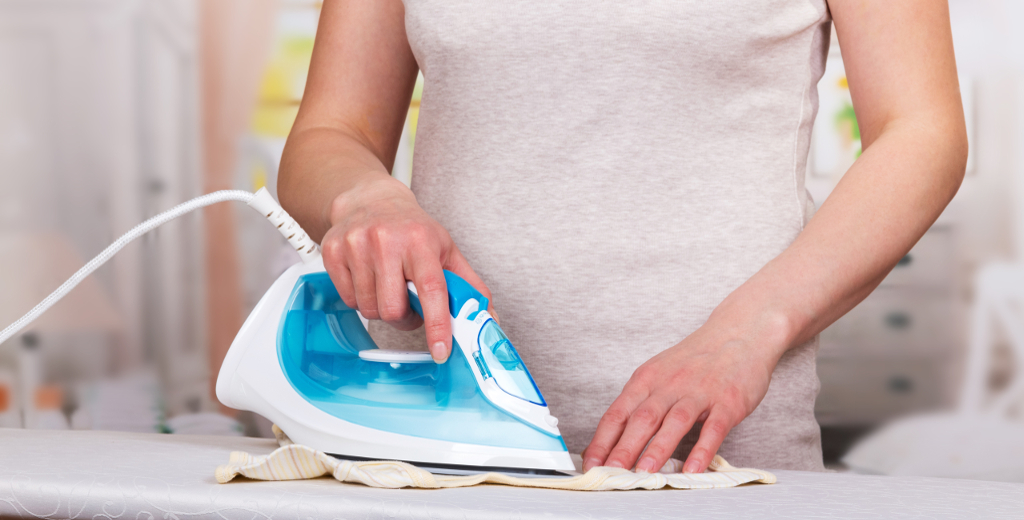iron: (211, 243, 582, 482)
